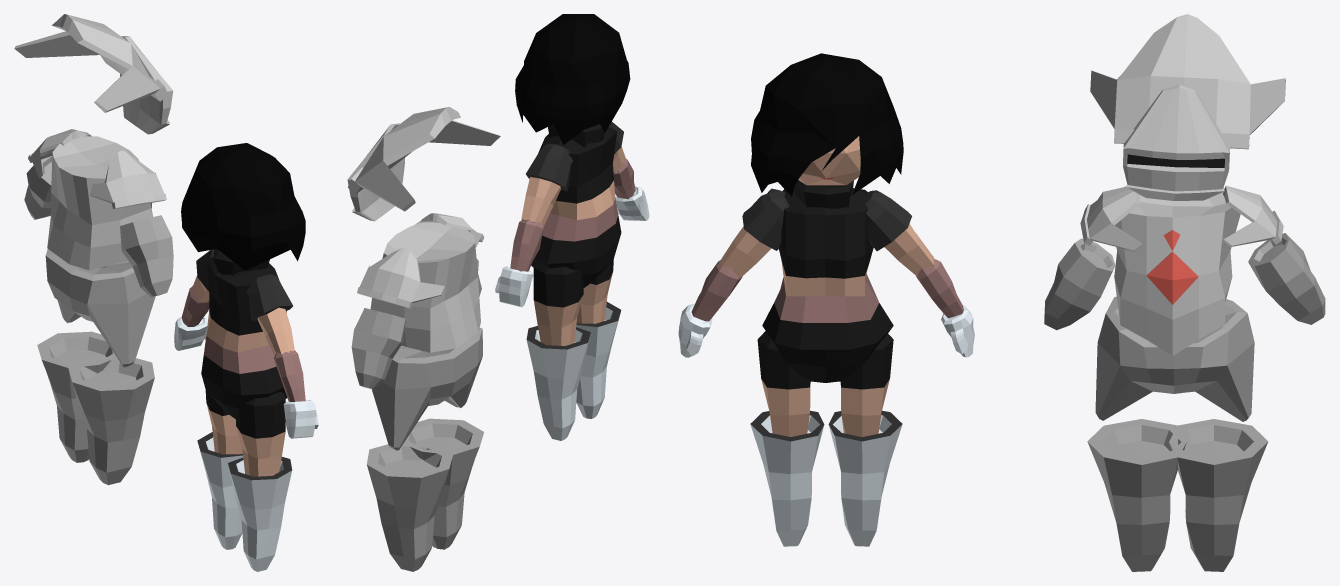
File: ivett.fbx
3 renders of one model, left to right at view 1: azimuth 30°, elevation 25°; view 2: azimuth 150°, elevation 25°; view 3: azimuth 270°, elevation 25°, orthographic. The views are drawn at different scales.
Parts seen in each view (by area): view 1: Icosphere.001, Cube.014, Cube.001, Cube.017, Cube.015, Cube.013, Cube.016, Cube.005, Cube.004, Cube.018, Cube.003, Cube.021 (+11 smaller); view 2: Icosphere.001, Cube.014, Cube.001, Cube.016, Cube.015, Cube.013, Cube.017, Cube.003, Cube.002, Cube.019, Cube.020, Cube.005 (+10 smaller); view 3: Cube.001, Cube.014, Icosphere.001, Cube.013, Cube.015, Cube.016, Cube.017, Cube.012, Cube.003, Cube.005, Cube.019, Cube.018 (+12 smaller).
Part boxes in pixels (left/top/right/bottom): Icosphere.001: left=181, top=143, right=305, bottom=270; Cube.014: left=47, top=136, right=152, bottom=270; Cube.001: left=201, top=257, right=287, bottom=419; Cube.017: left=68, top=355, right=154, bottom=485; Cube.015: left=45, top=249, right=155, bottom=367; Cube.013: left=14, top=14, right=168, bottom=112; Cube.016: left=37, top=331, right=116, bottom=462; Cube.005: left=228, top=457, right=292, bottom=571; Cube.004: left=236, top=391, right=285, bottom=476; Cube.018: left=120, top=215, right=173, bottom=296; Cube.003: left=197, top=432, right=243, bottom=549; Cube.021: left=90, top=150, right=166, bottom=209; Icosphere.001: left=515, top=14, right=630, bottom=144; Cube.014: left=370, top=222, right=480, bottom=352; Cube.001: left=531, top=127, right=621, bottom=287; Cube.016: left=366, top=442, right=452, bottom=571; Cube.015: left=372, top=328, right=482, bottom=450; Cube.013: left=348, top=107, right=500, bottom=211; Cube.017: left=403, top=418, right=483, bottom=549; Cube.003: left=526, top=326, right=590, bottom=440; Cube.002: left=533, top=262, right=583, bottom=345; Cube.019: left=351, top=308, right=405, bottom=389; Cube.020: left=357, top=247, right=444, bottom=308; Cube.005: left=576, top=302, right=621, bottom=418; Cube.001: left=762, top=185, right=893, bottom=382; Cube.014: left=1114, top=186, right=1240, bottom=356; Icosphere.001: left=751, top=53, right=903, bottom=196; Cube.013: left=1090, top=14, right=1285, bottom=149; Cube.015: left=1095, top=296, right=1254, bottom=421; Cube.016: left=1169, top=419, right=1268, bottom=571; Cube.017: left=1087, top=419, right=1186, bottom=571; Cube.012: left=1123, top=85, right=1229, bottom=200; Cube.003: left=828, top=410, right=902, bottom=546; Cube.005: left=750, top=410, right=824, bottom=546; Cube.019: left=1248, top=233, right=1325, bottom=324; Cube.018: left=1044, top=238, right=1115, bottom=330.
Size of the model in its own units: 381 by 1514 by 1642.
